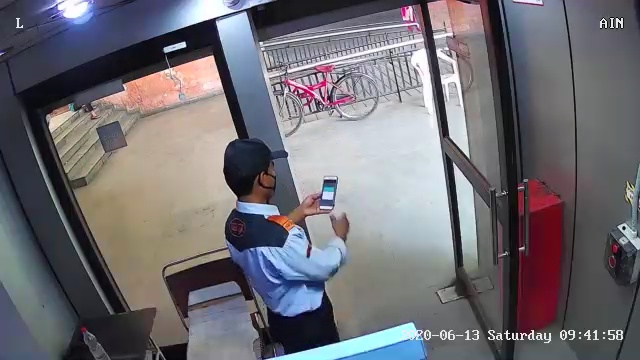open: (204, 9, 538, 346)
